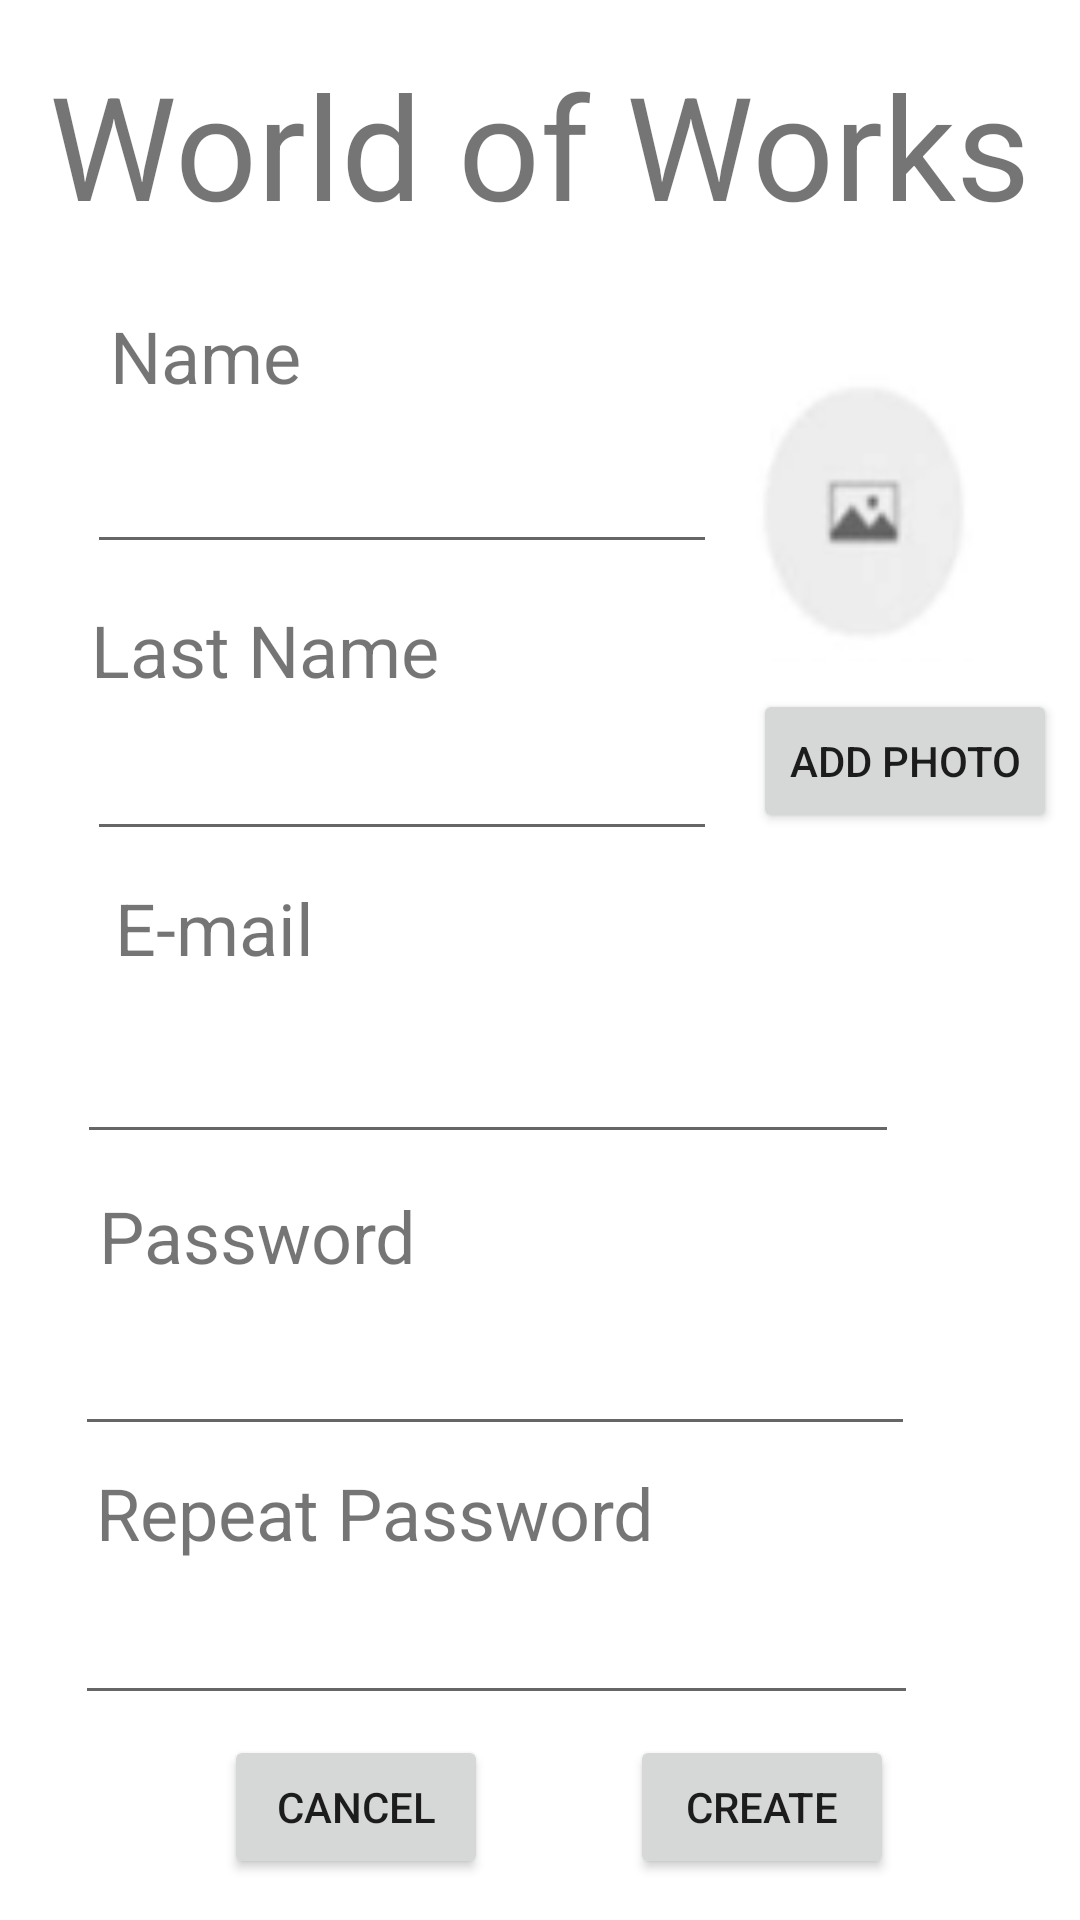

Where to tap for icons on this 1080x1920 app screen, as (x,y):
pro foto: (863,513)
